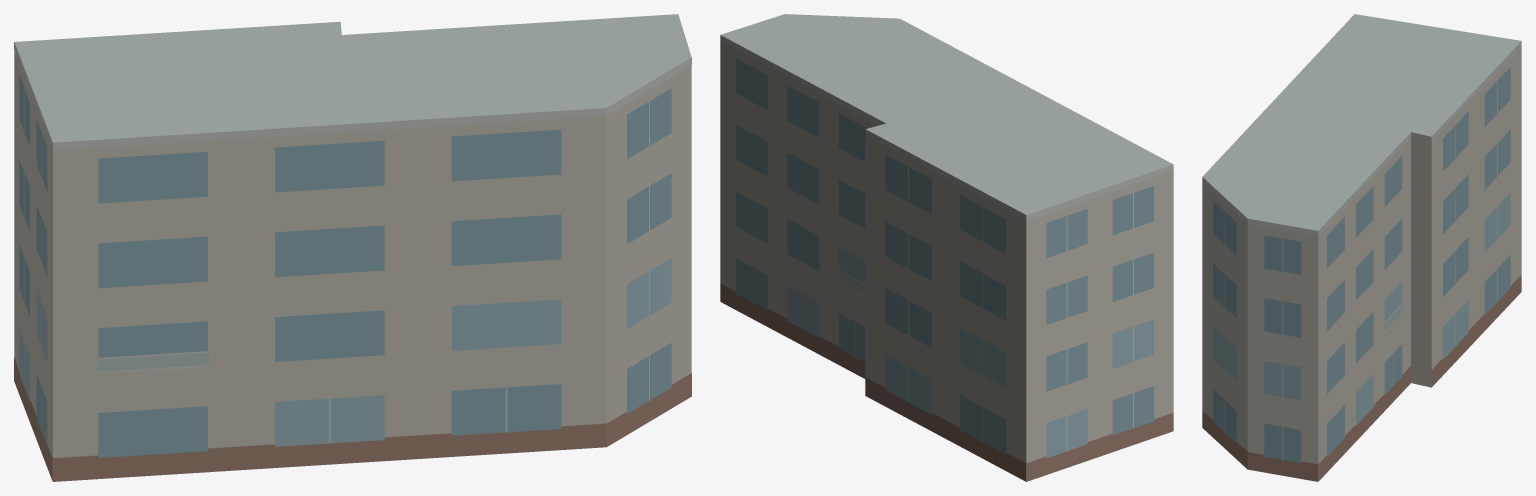
The model's file is survey-upis-32940757.glb.
3 renders of one model, left to right at view 1: azimuth 30°, elevation 25°; view 2: azimuth 150°, elevation 25°; view 3: azimuth 270°, elevation 25°, orthographic. The views are drawn at different scales.
Visible parts, largest first — view 1: survey-upis-32940757.tmp; view 2: survey-upis-32940757.tmp; view 3: survey-upis-32940757.tmp.
Part boxes in pixels (x1,y1,x2,y2): survey-upis-32940757.tmp: (14,14,691,481); survey-upis-32940757.tmp: (720,14,1173,481); survey-upis-32940757.tmp: (1202,14,1521,481).
Size of the model in its own units: 20.26 by 10.93 by 12.61.
